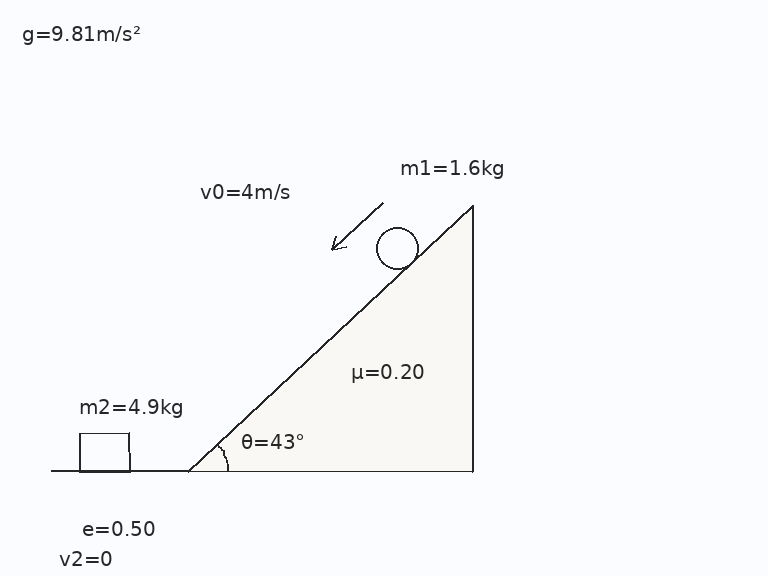ball: (374, 225, 420, 271)
block: (76, 432, 132, 473)
ramp: (186, 204, 474, 473)
